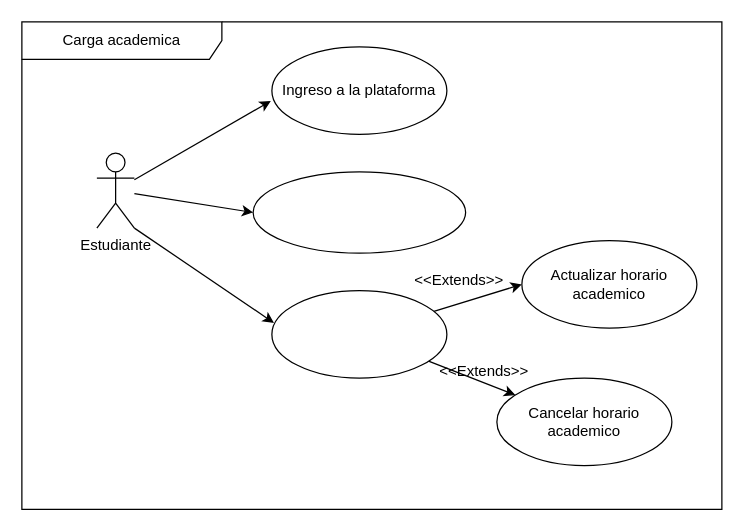
This 744x531 diagram has some shape labels left out. The shapes that lost their labels are listed below. From the top down, each one's box as (x1, y1, x2, y2) in pixels, then its label:
(252, 171, 466, 253): preinscribir disponibilidad academica
(271, 289, 447, 378): Gestionar horario academico
